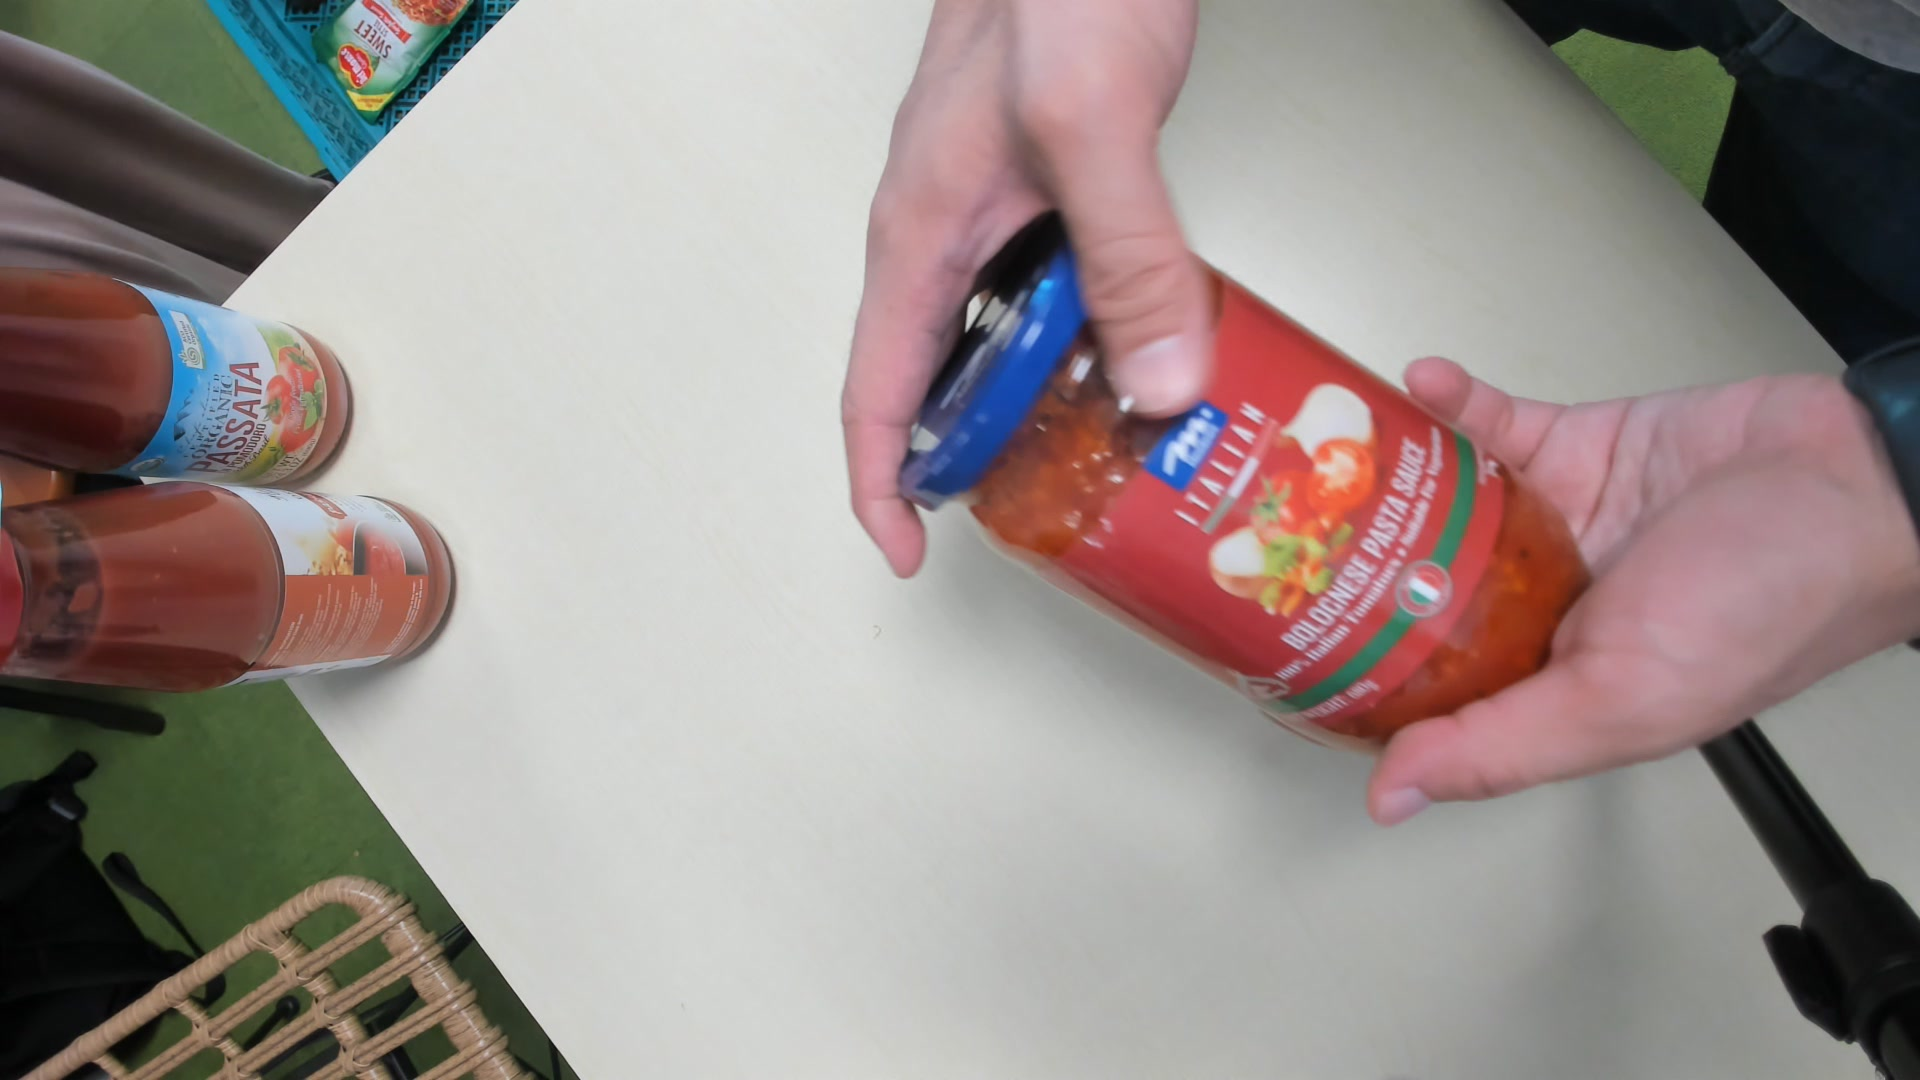PastaSauce_600-699g_Halal_NonHealthy: (897, 224, 1593, 766)
